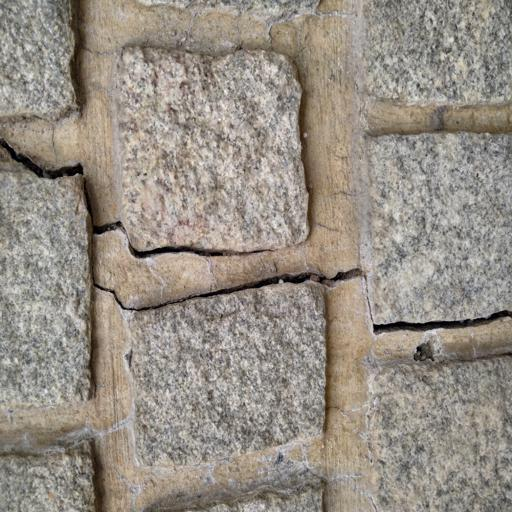major_crack: (0, 116, 512, 348)
